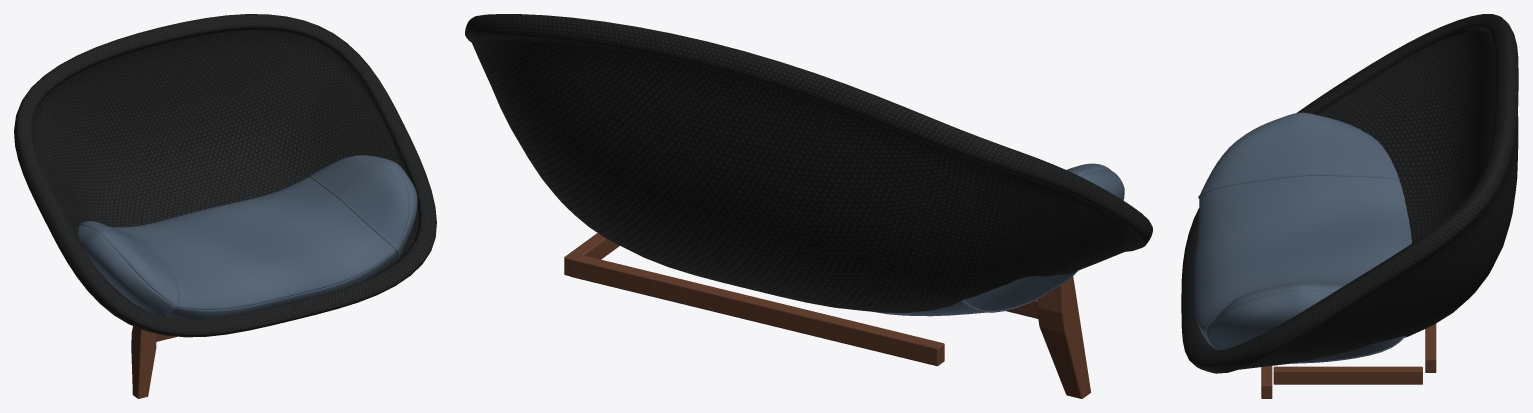
File: poltrona-pl-461-textured.glb
3 views of the same model, side by side, from view 1: azimuth 30°, elevation 25°; view 2: azimuth 150°, elevation 25°; view 3: azimuth 270°, elevation 25° (orthographic). The views are drawn at different scales.
Visible parts, largest first — view 1: Plane, Plane.001, Plane.002; view 2: Plane, Cube, Plane.002, Plane.001, Cube.001; view 3: Plane, Plane.001, Cube.001, Cube.
Part boxes in pixels (<box>): Plane: <box>14,14,436,337</box>; Plane.001: <box>78,155,417,319</box>; Plane.002: <box>131,326,156,398</box>; Plane: <box>465,14,1152,312</box>; Cube: <box>570,254,1038,366</box>; Plane.002: <box>1036,276,1090,398</box>; Plane.001: <box>872,163,1124,316</box>; Cube.001: <box>564,233,619,276</box>; Plane: <box>1181,14,1518,373</box>; Plane.001: <box>1194,112,1411,363</box>; Cube.001: <box>1273,366,1422,384</box>; Cube: <box>1261,323,1436,398</box>.
Size of the model in its own units: 1.05 by 0.7263 by 0.6933.
3 materials, 3 textured.
